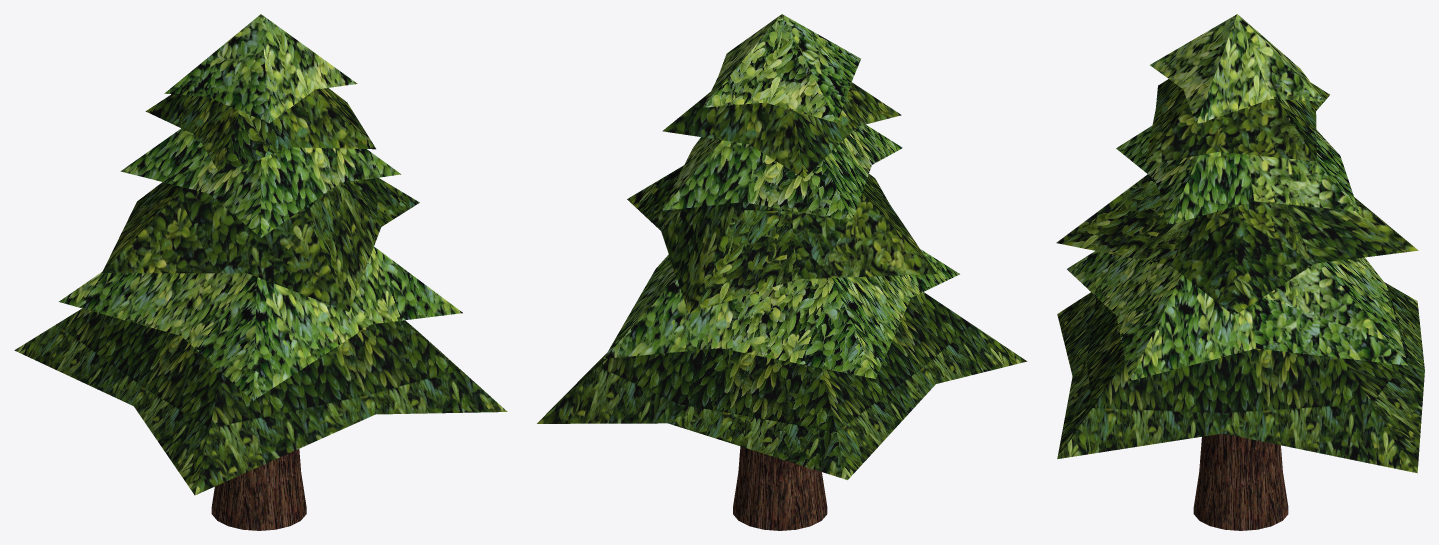
Rendered from Tree1.FBX.
3 renders of one model, left to right at view 1: azimuth 30°, elevation 25°; view 2: azimuth 150°, elevation 25°; view 3: azimuth 270°, elevation 25°, orthographic.
Parts seen in each view (by area): view 1: Pyramid013, Pyramid014, Pyramid015, Pyramid016, Pyramid017, Pyramid018, Cylinder003; view 2: Pyramid013, Pyramid014, Pyramid015, Pyramid016, Pyramid018, Pyramid017, Cylinder003; view 3: Pyramid013, Pyramid014, Pyramid015, Pyramid016, Pyramid018, Pyramid017, Cylinder003.
Boxes of the visible parts, x1,y1,x2,y2 form: Pyramid013: [14, 308, 507, 495]; Pyramid014: [59, 247, 462, 400]; Pyramid015: [102, 177, 419, 311]; Pyramid016: [120, 128, 400, 237]; Pyramid017: [145, 88, 375, 173]; Pyramid018: [164, 14, 357, 123]; Cylinder003: [211, 449, 306, 530]; Pyramid013: [537, 292, 1027, 479]; Pyramid014: [604, 249, 959, 378]; Pyramid015: [627, 165, 936, 313]; Pyramid016: [661, 124, 902, 221]; Pyramid018: [703, 14, 860, 122]; Pyramid017: [662, 82, 901, 178]; Cylinder003: [733, 446, 827, 530]; Pyramid013: [1057, 282, 1424, 473]; Pyramid014: [1067, 251, 1408, 380]; Pyramid015: [1056, 174, 1418, 315]; Pyramid016: [1116, 126, 1358, 225]; Pyramid018: [1150, 14, 1324, 124]; Pyramid017: [1144, 79, 1329, 165]; Cylinder003: [1193, 433, 1288, 530].
Size of the model in its own units: 30.2 by 45.62 by 30.71.
Materials: 3 (3 with a texture image).
